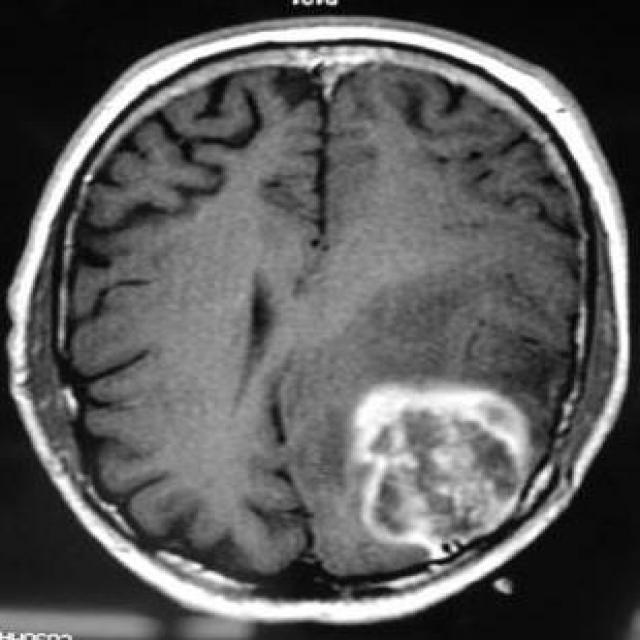Tumor: (347, 390, 534, 561)
